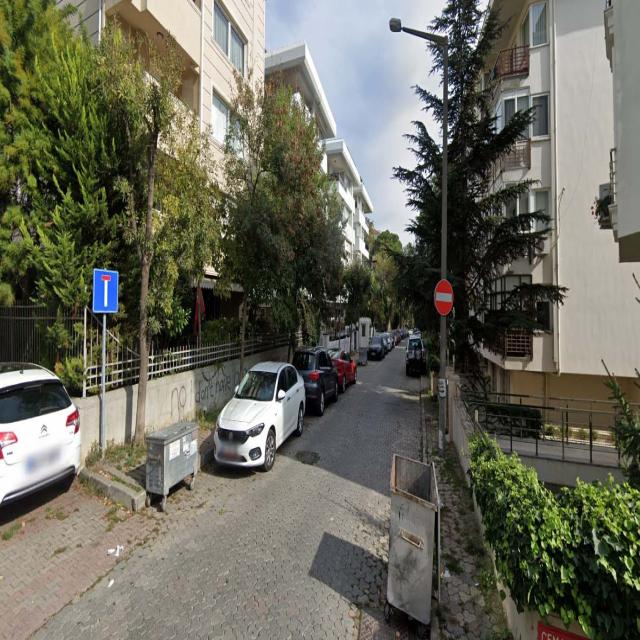girisyok: (434, 278, 453, 316)
